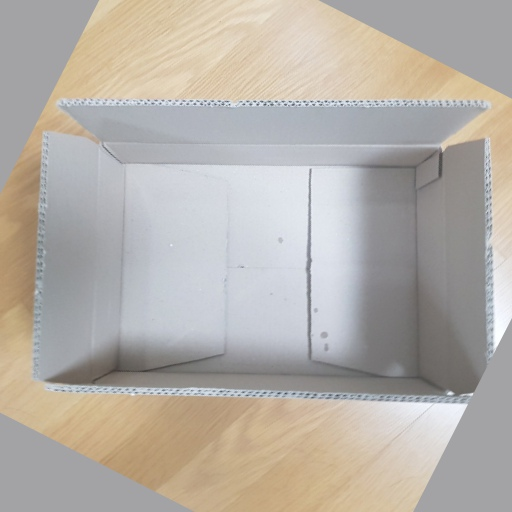Paper_0: (27, 97, 499, 407)
